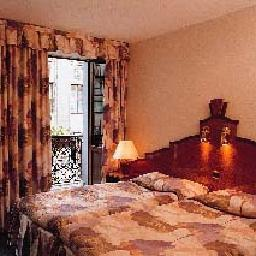Cama: (54, 189, 252, 255), (13, 171, 203, 229)
